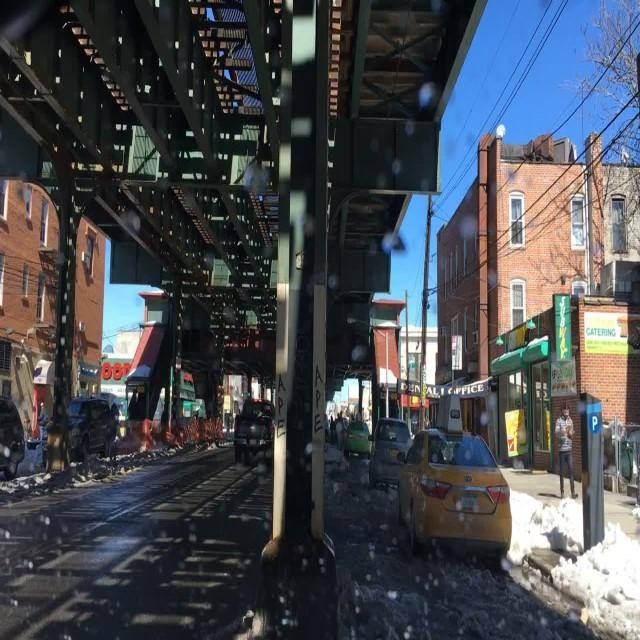normal: (314, 372, 539, 589)
